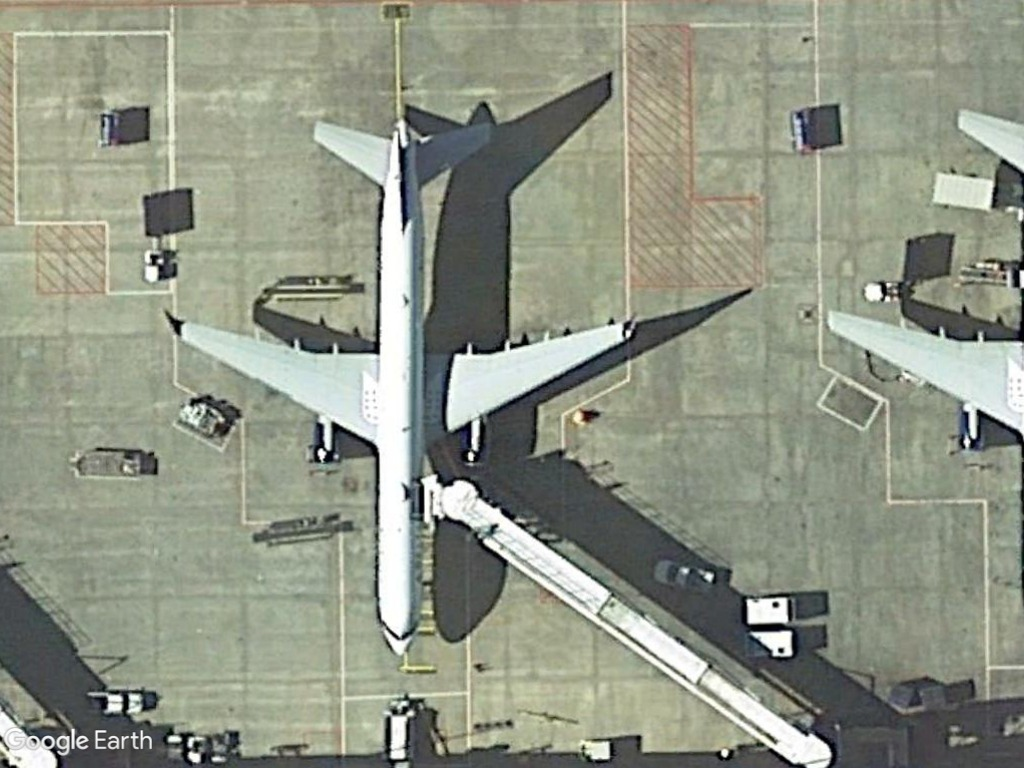airliner: (141, 106, 647, 668)
